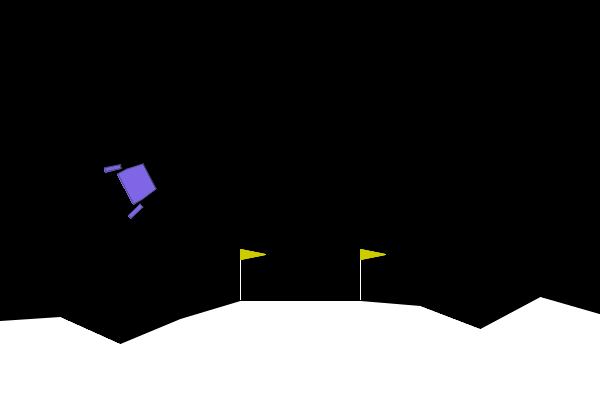lander: (102, 149, 165, 221)
